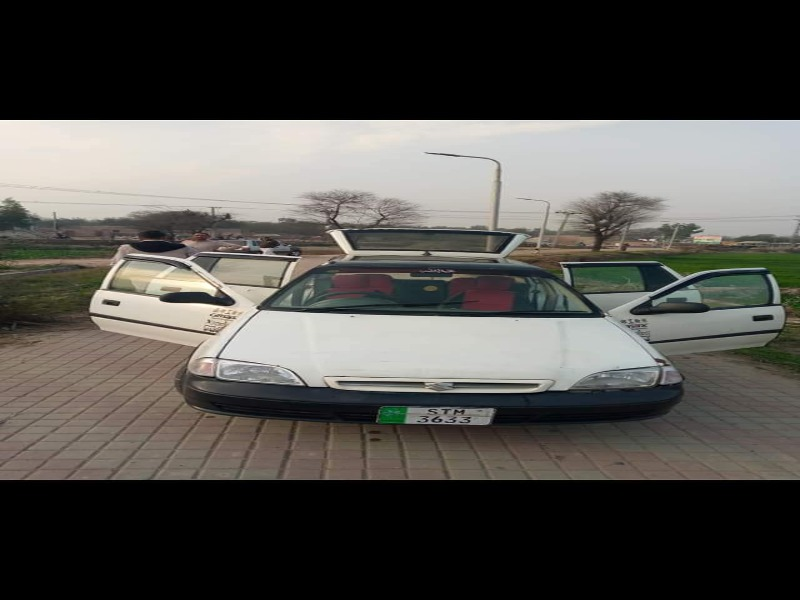License Plate: (370, 400, 496, 434)
